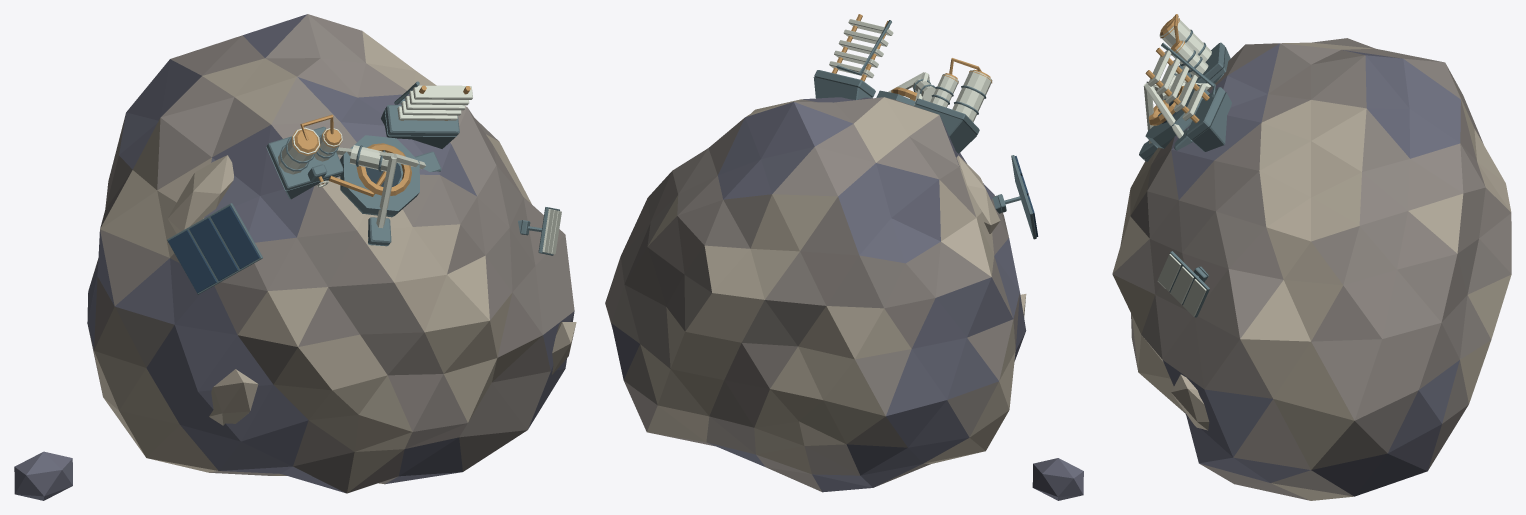
Rendered from asteroids.glb.
The picture shows the model from 3 angles, left to right: view 1: azimuth 30°, elevation 25°; view 2: azimuth 150°, elevation 25°; view 3: azimuth 270°, elevation 25°; orthographic projection. The views are drawn at different scales.
Parts seen in each view (by area): view 1: S6_asteroids • modeled surfaces; view 2: S6_asteroids • modeled surfaces; view 3: S6_asteroids • modeled surfaces.
Part boxes in pixels (<box>): S6_asteroids • modeled surfaces: <box>14,14,576,500</box>; S6_asteroids • modeled surfaces: <box>605,14,1083,500</box>; S6_asteroids • modeled surfaces: <box>1112,14,1511,500</box>.
Size of the model in its own units: 1.9 by 1.55 by 1.34.
